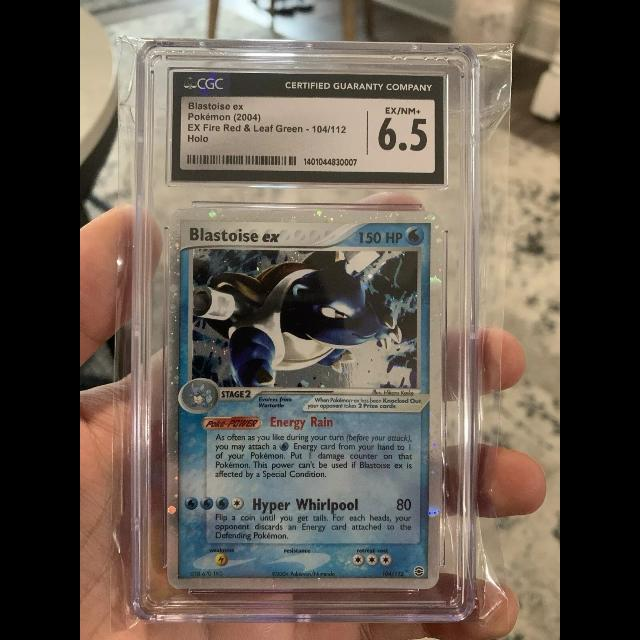card: (166, 207, 443, 589)
cgc_label: (171, 71, 445, 185)
cgc_slab: (131, 38, 480, 621)
